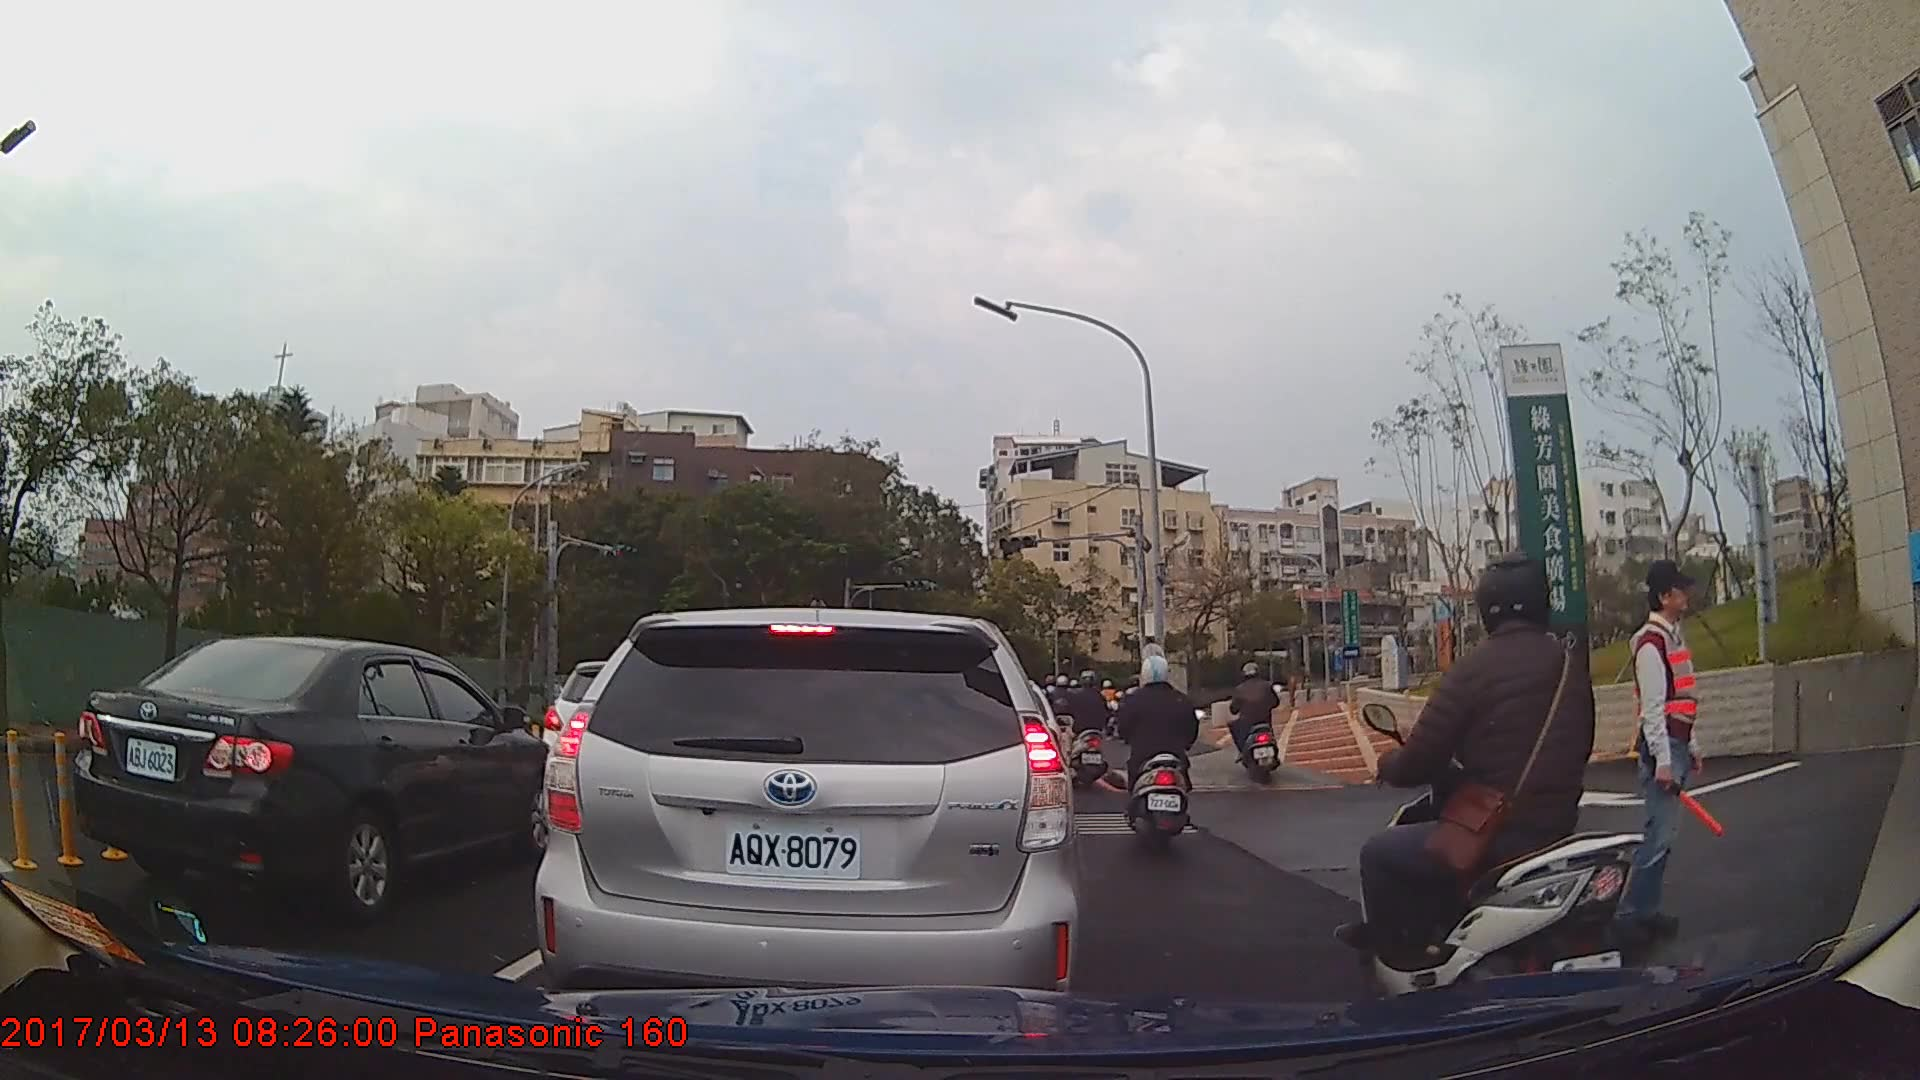pedestrian: (1627, 557, 1721, 941)
rider: (1342, 551, 1646, 1038), (1116, 652, 1207, 860), (1228, 663, 1285, 786), (1063, 670, 1113, 792)
vehicle: (535, 603, 1082, 1041), (71, 633, 563, 923)
